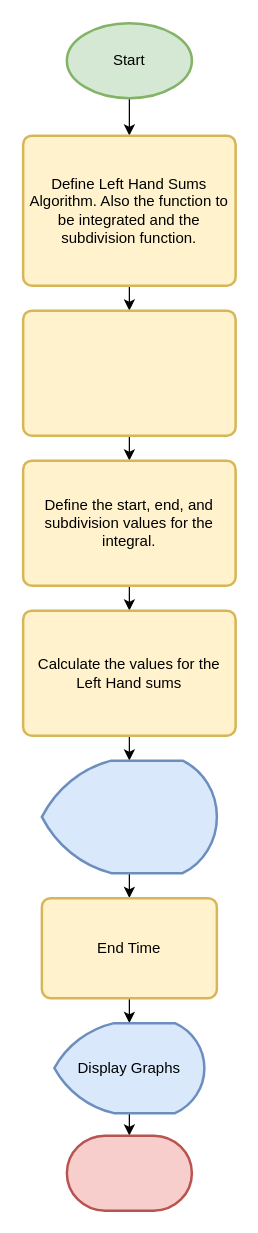
Some shapes in this 258 by 1233 pixel diagram are drawn without their labels. The centre of each missing label's shape, as x and y in pixels:
"Print the results" belongs at [129,816].
"Start the timer" belongs at [128,372].
"Terminate" belongs at [128,1172].
